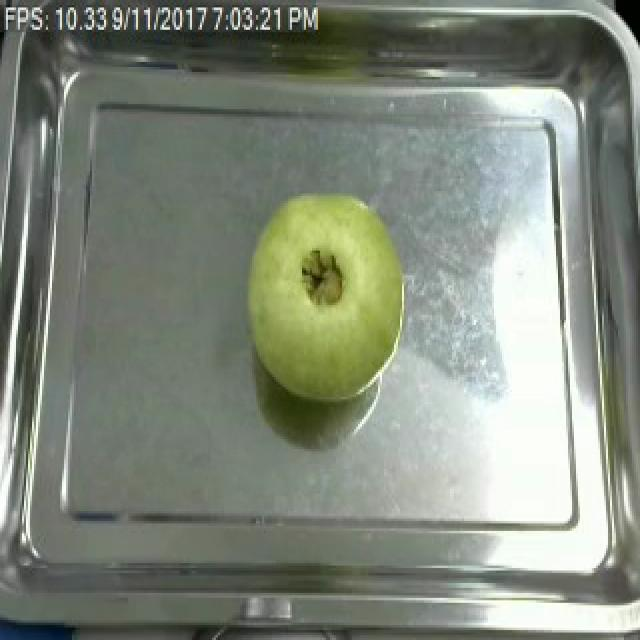Fruit: (238, 178, 414, 406)
